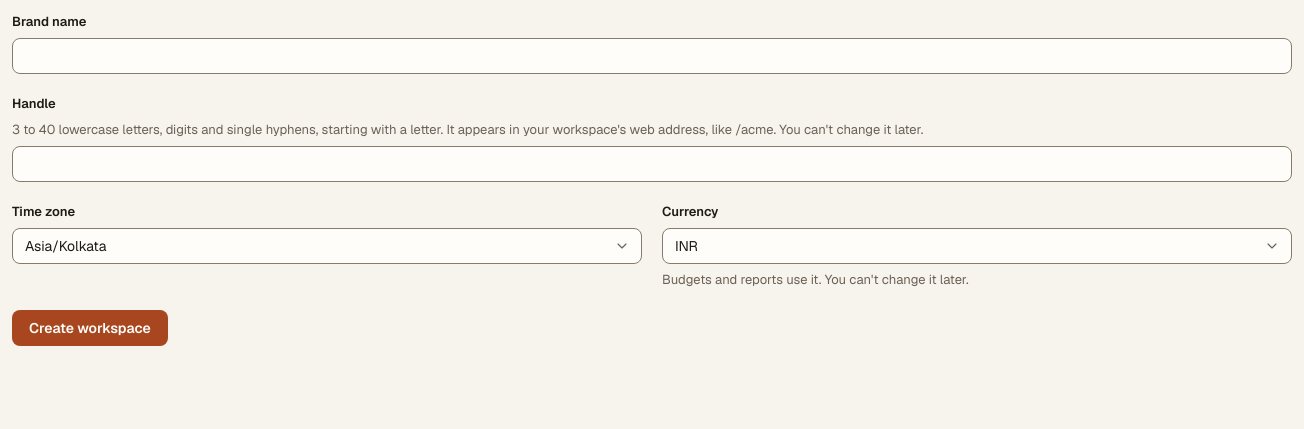
Scenario: shows field errors from the core next to their fields
In the field labelled "Brand name": (652, 56) x1=12 y1=38 x2=1292 y2=74, type "Acme Shoes"
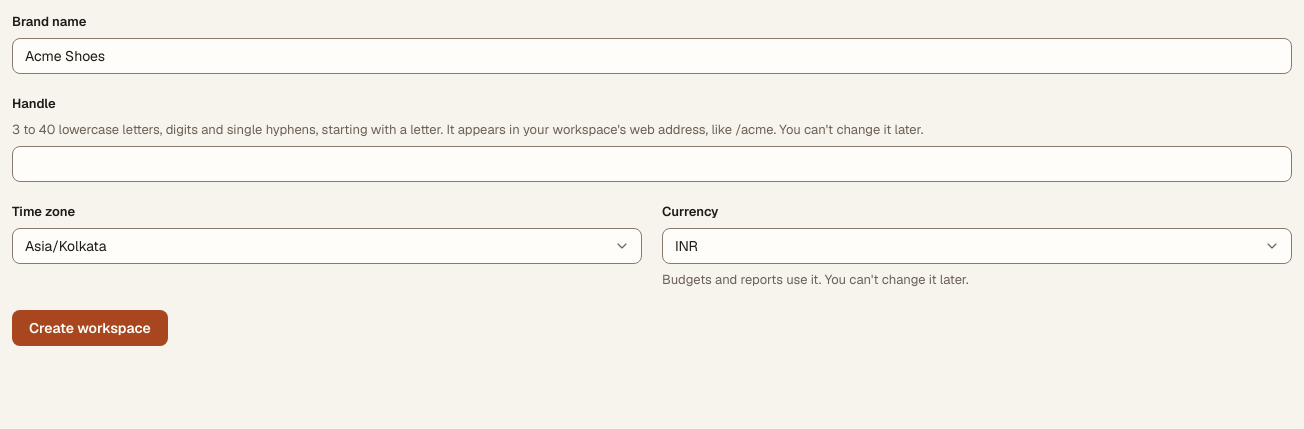
In the field labelled "Handle": (652, 164) x1=12 y1=146 x2=1292 y2=182, type "acme"
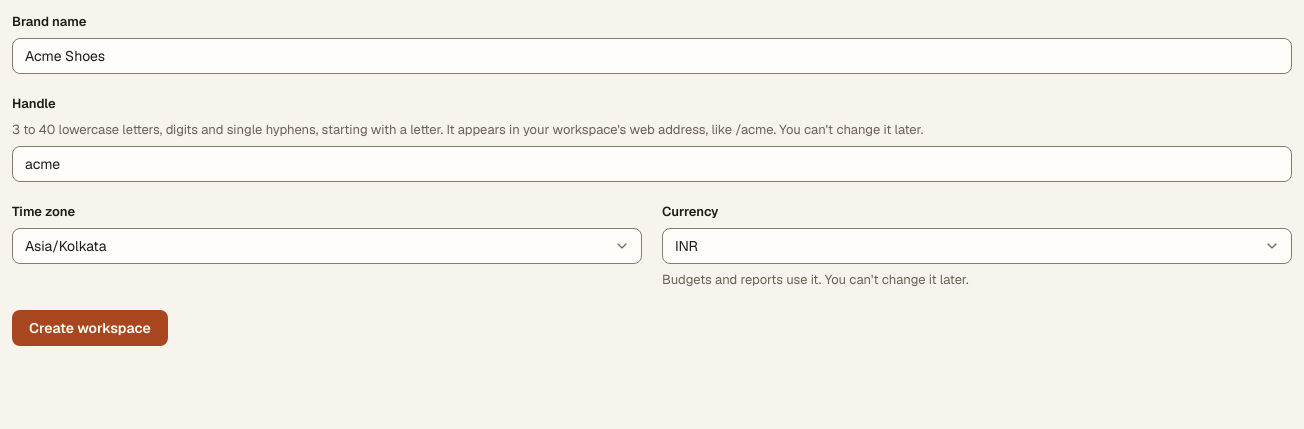
Click the button "Create workspace": (90, 328) x1=12 y1=310 x2=168 y2=346
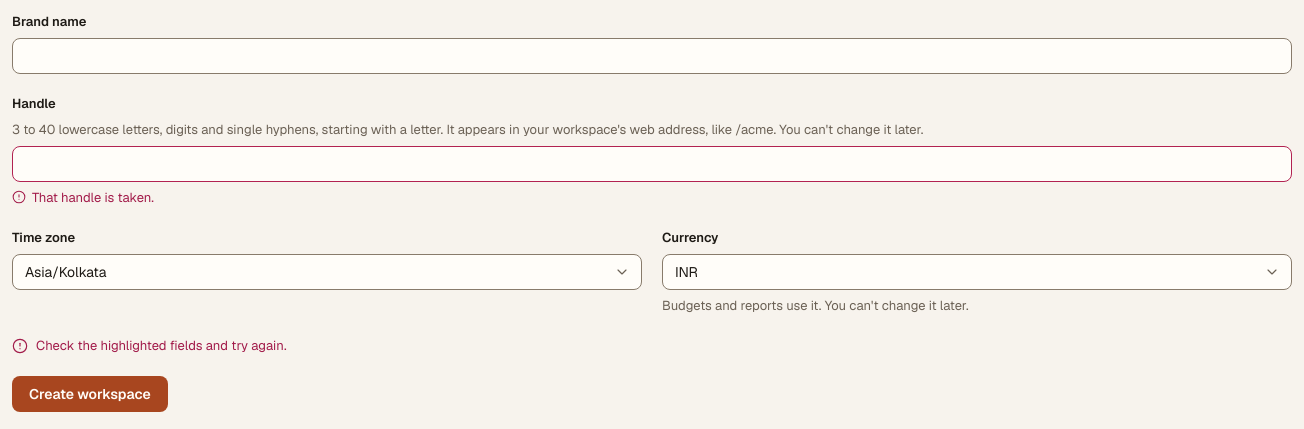
Check: the text "That handle is taken." is shown, box x1=32 y1=188 x2=154 y2=208
